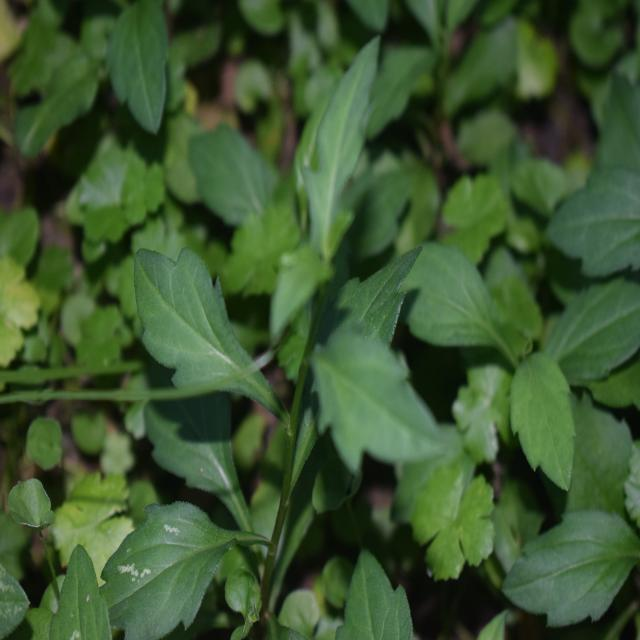Indian aster: (134, 48, 442, 540)
